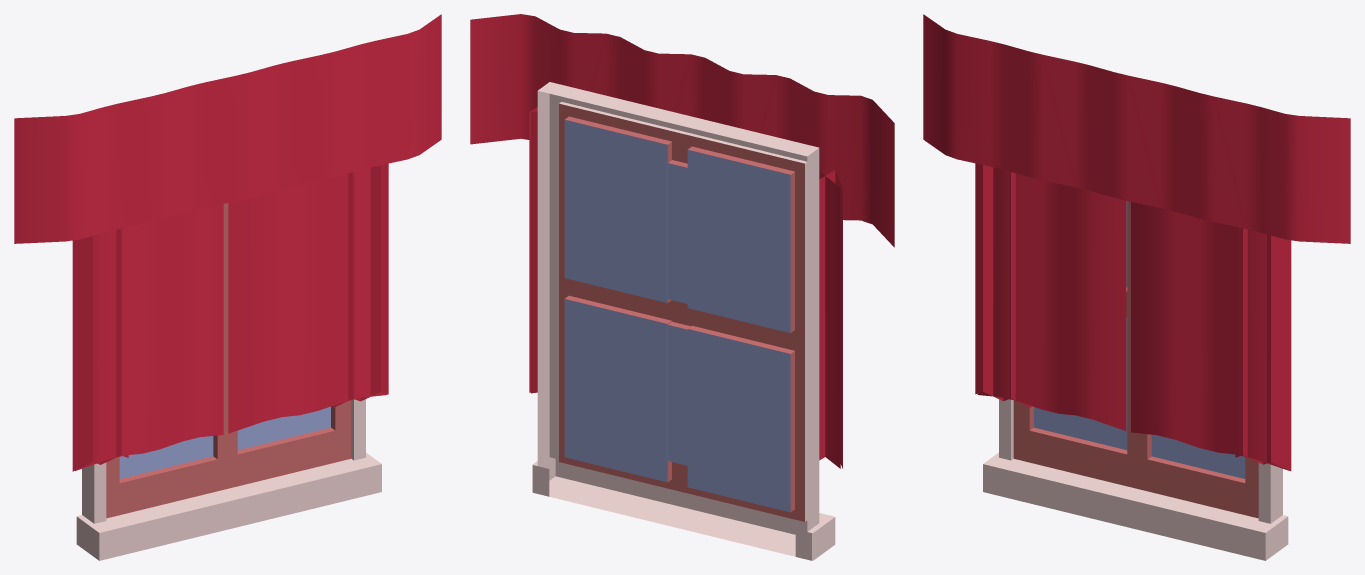
File: window_2.fbx
The picture shows the model from 3 angles, left to right: view 1: azimuth 30°, elevation 25°; view 2: azimuth 150°, elevation 25°; view 3: azimuth 330°, elevation 25°; orthographic projection.
Visible parts, largest first — view 1: CurtainsTop, CurtainsRight.001, CurtainsLeft.001, Window_2, Window_4, CurtainsLeft, CurtainsRight; view 2: Window_4, Window_2, CurtainsTop, CurtainsLeft.001, CurtainsLeft, CurtainsRight.001, CurtainsRight; view 3: CurtainsTop, CurtainsRight.001, CurtainsLeft.001, Window_2, Window_4, CurtainsRight, CurtainsLeft.
Part boxes in pixels (left/top/right/bottom): CurtainsTop: left=14, top=14, right=441, bottom=243; CurtainsRight.001: left=228, top=167, right=387, bottom=433; CurtainsLeft.001: left=75, top=204, right=223, bottom=470; Window_2: left=76, top=294, right=381, bottom=560; Window_4: left=77, top=203, right=380, bottom=560; CurtainsLeft: left=72, top=228, right=128, bottom=471; CurtainsRight: left=332, top=163, right=388, bottom=407; Window_4: left=533, top=82, right=834, bottom=560; Window_2: left=532, top=82, right=835, bottom=560; CurtainsTop: left=470, top=14, right=894, bottom=247; CurtainsLeft.001: left=819, top=171, right=840, bottom=468; CurtainsLeft: left=819, top=170, right=842, bottom=468; CurtainsRight.001: left=530, top=111, right=537, bottom=393; CurtainsRight: left=529, top=107, right=537, bottom=392; CurtainsTop: left=923, top=14, right=1350, bottom=243; CurtainsRight.001: left=1131, top=202, right=1289, bottom=470; CurtainsLeft.001: left=977, top=167, right=1126, bottom=430; Window_2: left=983, top=201, right=1288, bottom=560; Window_4: left=984, top=201, right=1287, bottom=557; CurtainsRight: left=1235, top=228, right=1291, bottom=470; CurtainsLeft: left=975, top=163, right=1031, bottom=407.
Size of the model in its own units: 345 by 351 by 36.29.
